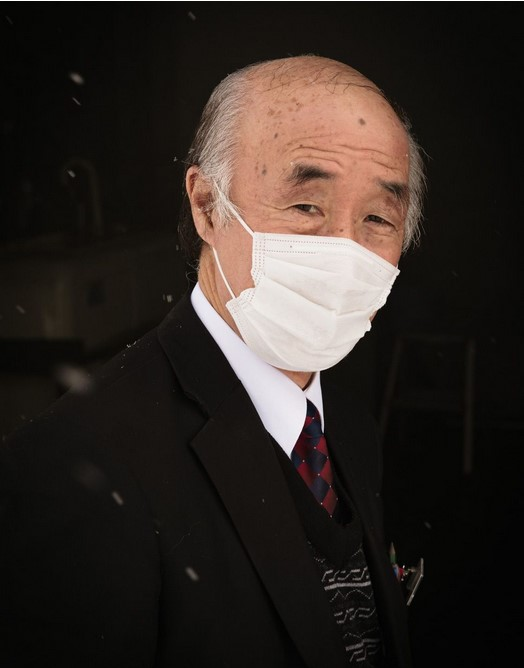face_with_mask: (182, 55, 429, 379)
